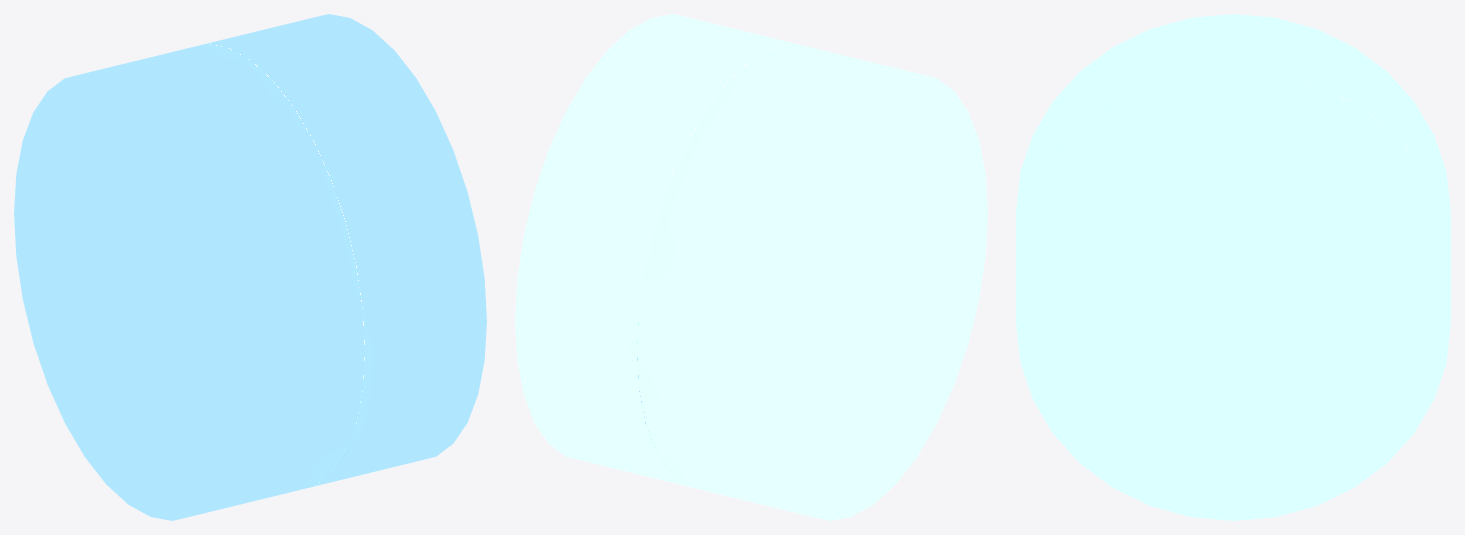
The model's file is SUV_HotV_TwinTurbo_Turbine_R.glb.
3 renders of one model, left to right at view 1: azimuth 30°, elevation 25°; view 2: azimuth 150°, elevation 25°; view 3: azimuth 270°, elevation 25°, orthographic. The views are drawn at different scales.
Parts seen in each view (by area): view 1: SUV_HotV_TwinTurbo_Turbine_R; view 2: SUV_HotV_TwinTurbo_Turbine_R; view 3: SUV_HotV_TwinTurbo_Turbine_R.
Part boxes in pixels (x1,y1,x2,y2): SUV_HotV_TwinTurbo_Turbine_R: [14, 14, 486, 520]; SUV_HotV_TwinTurbo_Turbine_R: [515, 14, 987, 520]; SUV_HotV_TwinTurbo_Turbine_R: [1016, 14, 1450, 520].
Size of the model in its own units: 0.08 by 0.13 by 0.13.
